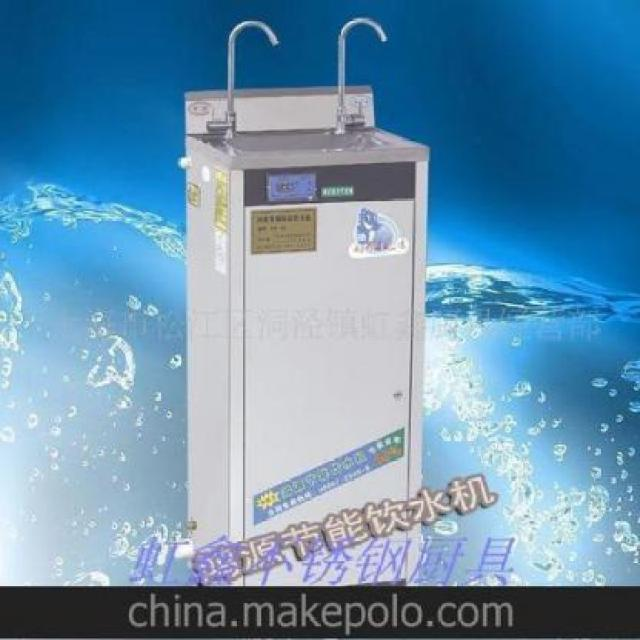cooler: (178, 14, 432, 588)
